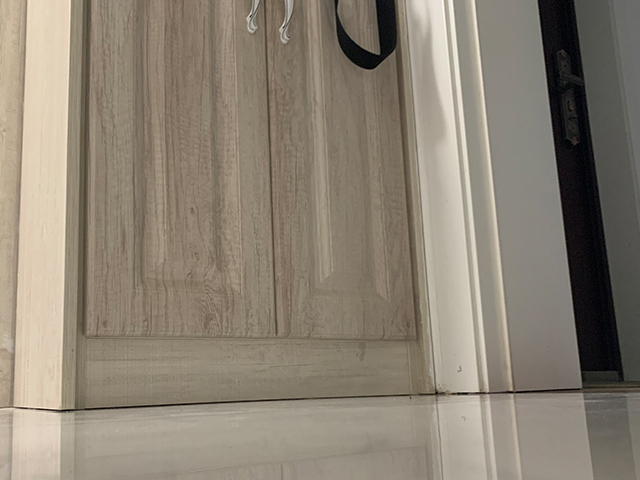cabinet: (11, 1, 438, 412)
